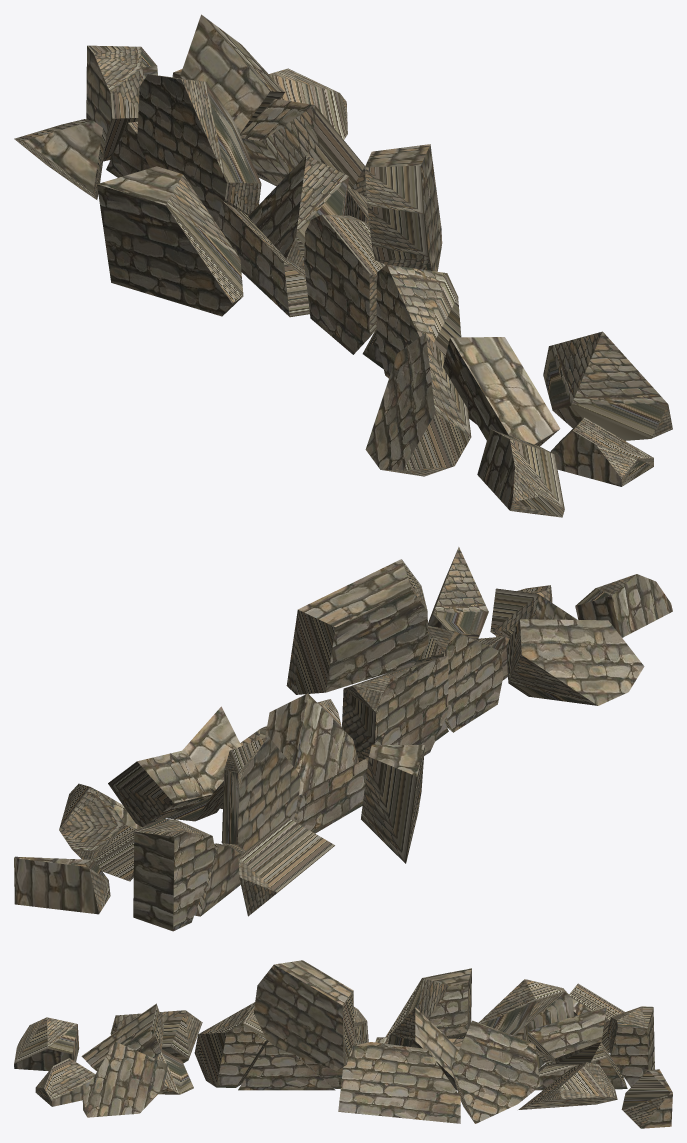
Rendered from BreakWallLarge_000013.obj.
3 renders of one model, top to bottom at view 1: azimuth 30°, elevation 25°; view 2: azimuth 150°, elevation 25°; view 3: azimuth 270°, elevation 25°, orthographic. The views are drawn at different scales.
Visible parts, largest first — view 1: Cube.057_cell.017_Cube.057_cell.016, Cube.057_cell.014_Cube.057_cell.013, Cube.057_cell.021_Cube.057_cell.020, Cube.057_cell.007_Cube.057_cell.006, Cube.057_cell.013_Cube.057_cell.012, Cube.057_cell.018_Cube.057_cell.017, Cube.057_cell.011_Cube.057_cell.010, Cube.057_cell.010_Cube.057_cell.009, Cube.057_cell.020_Cube.057_cell.019, Cube.057_cell.016_Cube.057_cell.015, Cube.057_cell_Cube.057_cell.022, Cube.057_cell.015_Cube.057_cell.014 (+6 smaller); view 2: Cube.057_cell.018_Cube.057_cell.017, Cube.057_cell.021_Cube.057_cell.020, Cube.057_cell.013_Cube.057_cell.012, Cube.057_cell.003_Cube.057_cell.002, Cube.057_cell.014_Cube.057_cell.013, Cube.057_cell.017_Cube.057_cell.016, Cube.057_cell_Cube.057_cell.022, Cube.057_cell.010_Cube.057_cell.009, Cube.057_cell.012_Cube.057_cell.011, Cube.057_cell.016_Cube.057_cell.015, Cube.057_cell.001_Cube.057_cell.000, Cube.057_cell.019_Cube.057_cell.018 (+6 smaller); view 3: Cube.057_cell.018_Cube.057_cell.017, Cube.057_cell.004_Cube.057_cell.003, Cube.057_cell.020_Cube.057_cell.019, Cube.057_cell.007_Cube.057_cell.006, Cube.057_cell.010_Cube.057_cell.009, Cube.057_cell.017_Cube.057_cell.016, Cube.057_cell.014_Cube.057_cell.013, Cube.057_cell.016_Cube.057_cell.015, Cube.057_cell.003_Cube.057_cell.002, Cube.057_cell.015_Cube.057_cell.014, Cube.057_cell.012_Cube.057_cell.011, Cube.057_cell.002_Cube.057_cell.001 (+9 smaller).
Part boxes in pixels (x1,y1,x2,y2): Cube.057_cell.017_Cube.057_cell.016: [97, 166, 243, 316]; Cube.057_cell.014_Cube.057_cell.013: [137, 74, 261, 223]; Cube.057_cell.021_Cube.057_cell.020: [365, 333, 471, 476]; Cube.057_cell.007_Cube.057_cell.006: [543, 331, 672, 440]; Cube.057_cell.013_Cube.057_cell.012: [304, 214, 385, 354]; Cube.057_cell.018_Cube.057_cell.017: [364, 144, 442, 271]; Cube.057_cell.011_Cube.057_cell.010: [443, 337, 560, 446]; Cube.057_cell.010_Cube.057_cell.009: [376, 264, 461, 378]; Cube.057_cell.020_Cube.057_cell.019: [240, 99, 366, 197]; Cube.057_cell.016_Cube.057_cell.015: [180, 14, 284, 134]; Cube.057_cell_Cube.057_cell.022: [248, 155, 349, 269]; Cube.057_cell.015_Cube.057_cell.014: [477, 429, 564, 517]; Cube.057_cell.018_Cube.057_cell.017: [286, 559, 428, 694]; Cube.057_cell.021_Cube.057_cell.020: [506, 619, 644, 705]; Cube.057_cell.013_Cube.057_cell.012: [342, 655, 448, 768]; Cube.057_cell.003_Cube.057_cell.002: [133, 819, 215, 931]; Cube.057_cell.014_Cube.057_cell.013: [221, 736, 300, 854]; Cube.057_cell.017_Cube.057_cell.016: [361, 744, 424, 863]; Cube.057_cell_Cube.057_cell.022: [265, 693, 358, 794]; Cube.057_cell.010_Cube.057_cell.009: [414, 625, 503, 732]; Cube.057_cell.012_Cube.057_cell.011: [59, 783, 145, 881]; Cube.057_cell.016_Cube.057_cell.015: [108, 750, 213, 827]; Cube.057_cell.001_Cube.057_cell.000: [238, 817, 334, 916]; Cube.057_cell.019_Cube.057_cell.018: [14, 856, 110, 914]; Cube.057_cell.018_Cube.057_cell.017: [253, 960, 354, 1070]; Cube.057_cell.004_Cube.057_cell.003: [338, 1042, 460, 1123]; Cube.057_cell.020_Cube.057_cell.019: [451, 1020, 540, 1123]; Cube.057_cell.007_Cube.057_cell.006: [82, 1041, 168, 1117]; Cube.057_cell.010_Cube.057_cell.009: [194, 1002, 268, 1087]; Cube.057_cell.017_Cube.057_cell.016: [385, 968, 471, 1038]; Cube.057_cell.014_Cube.057_cell.013: [478, 979, 573, 1068]; Cube.057_cell.016_Cube.057_cell.015: [527, 1006, 606, 1066]; Cube.057_cell.003_Cube.057_cell.002: [607, 1006, 654, 1086]; Cube.057_cell.015_Cube.057_cell.014: [14, 1017, 79, 1071]; Cube.057_cell.012_Cube.057_cell.011: [518, 1062, 617, 1109]; Cube.057_cell.002_Cube.057_cell.001: [238, 1042, 335, 1090].
Bounding box in the file's own units: 25.43 × 14.51 × 70.38.
Materials: 2 (2 with a texture image).
